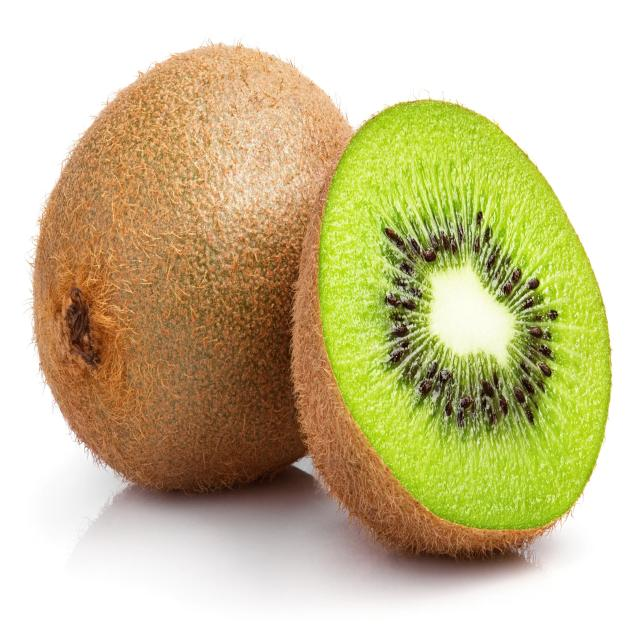kiwi: (33, 45, 389, 495), (290, 97, 613, 557)
